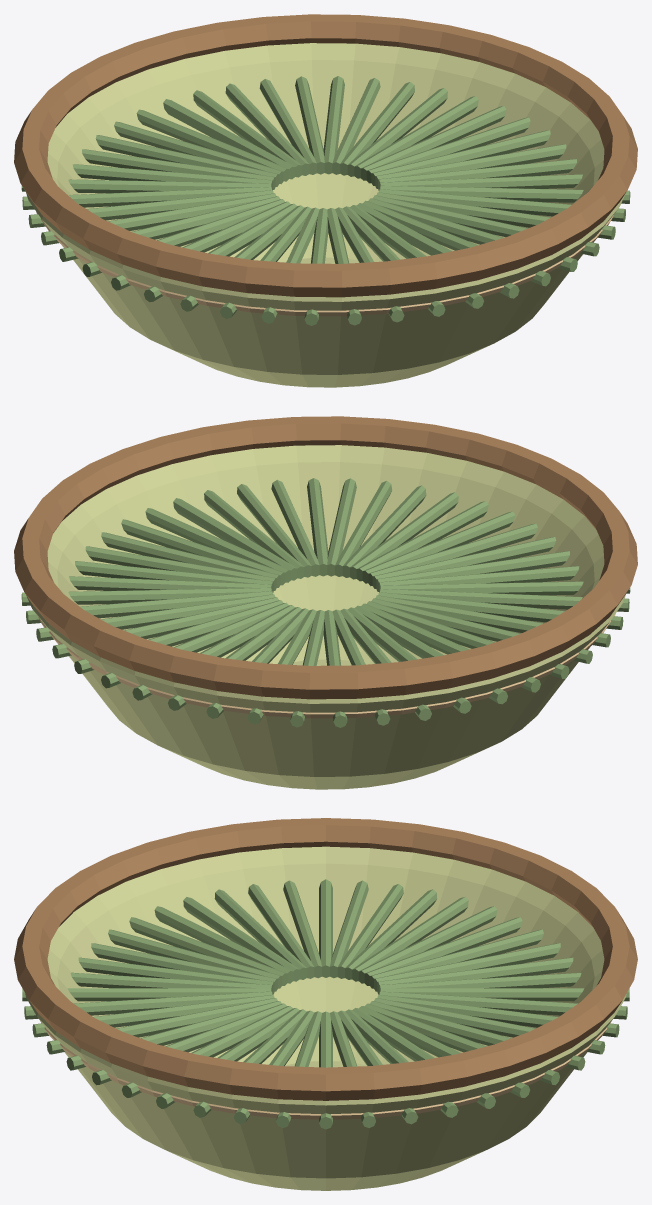
File: bamboo_zaru.glb
3 renders of one model, top to bottom at view 1: azimuth 30°, elevation 25°; view 2: azimuth 150°, elevation 25°; view 3: azimuth 270°, elevation 25°, orthographic.
Visible parts, largest first — view 1: Handwoven shallow zaru basket, Basket thick polished binding, Concentric bamboo weave.003, Zaru radial strips19, Zaru radial strips40, Zaru radial strips39, Zaru radial strips18, Zaru radial strips41, Zaru radial strips42, Zaru radial strips17, Zaru radial strips16, Zaru radial strips43 (+35 smaller); view 2: Handwoven shallow zaru basket, Basket thick polished binding, Concentric bamboo weave.003, Zaru radial strips4, Zaru radial strips25, Zaru radial strips5, Zaru radial strips26, Zaru radial strips3, Zaru radial strips2, Zaru radial strips27, Zaru radial strips28, Zaru radial strips1 (+35 smaller); view 3: Handwoven shallow zaru basket, Basket thick polished binding, Concentric bamboo weave.003, Zaru radial strips12, Zaru radial strips32, Zaru radial strips10, Zaru radial strips34, Zaru radial strips11, Zaru radial strips33, Zaru radial strips13, Zaru radial strips31, Zaru radial strips14 (+35 smaller).
Boxes of the visible parts, x1,y1,x2,y2 form: Handwoven shallow zaru basket: (26,43,625,387); Basket thick polished binding: (14,14,637,297); Concentric bamboo weave.003: (36,211,613,316); Zaru radial strips19: (22,187,271,209); Zaru radial strips40: (380,185,630,203); Zaru radial strips39: (379,189,625,221); Zaru radial strips18: (21,179,271,193); Zaru radial strips41: (380,174,582,188); Zaru radial strips42: (378,159,576,190); Zaru radial strips17: (72,164,272,190); Zaru radial strips16: (82,149,275,189); Zaru radial strips43: (375,144,566,188); Handwoven shallow zaru basket: (26,445,625,789); Basket thick polished binding: (14,416,637,699); Concentric bamboo weave.003: (38,613,615,718); Zaru radial strips4: (21,587,271,605); Zaru radial strips25: (380,589,629,611); Zaru radial strips5: (26,591,272,623); Zaru radial strips26: (380,581,630,595); Zaru radial strips3: (69,576,271,590); Zaru radial strips2: (75,561,273,592); Zaru radial strips27: (379,566,579,592); Zaru radial strips28: (376,551,569,591); Zaru radial strips1: (85,546,276,590); Handwoven shallow zaru basket: (25,846,626,1190); Basket thick polished binding: (14,818,637,1100); Concentric bamboo weave.003: (40,1021,611,1119); Zaru radial strips12: (379,972,581,993); Zaru radial strips32: (70,972,272,993); Zaru radial strips10: (379,991,627,1019); Zaru radial strips34: (24,991,272,1019); Zaru radial strips11: (380,988,629,1001); Zaru radial strips33: (22,988,271,1001); Zaru radial strips13: (377,957,573,994); Zaru radial strips31: (78,957,274,994); Zaru radial strips14: (374,943,560,991).
Size of the model in its own units: 1.95 by 0.6479 by 1.95.
